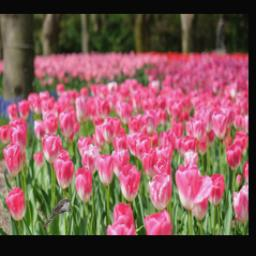Cuckoo: (42, 198, 73, 227)
